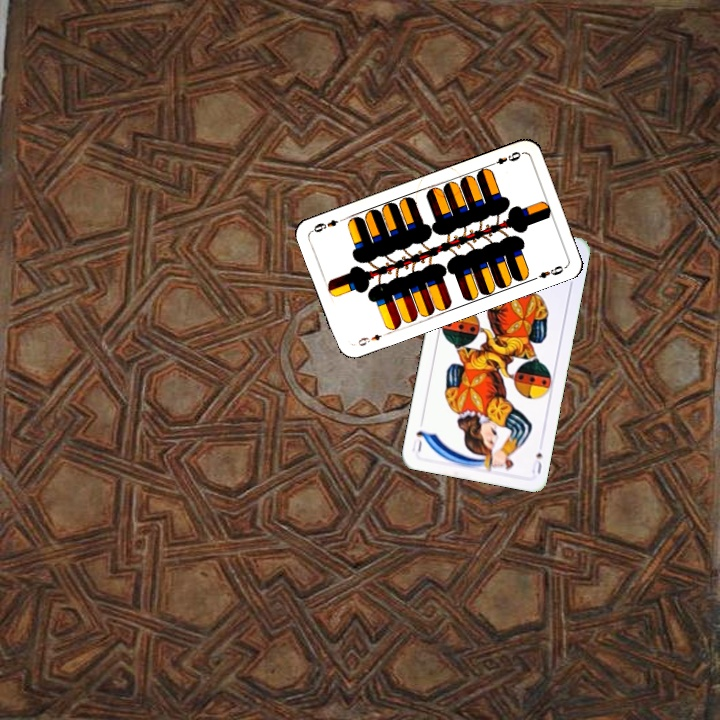E9: (486, 147, 523, 168), (354, 330, 384, 349)
SU: (527, 448, 545, 477)
